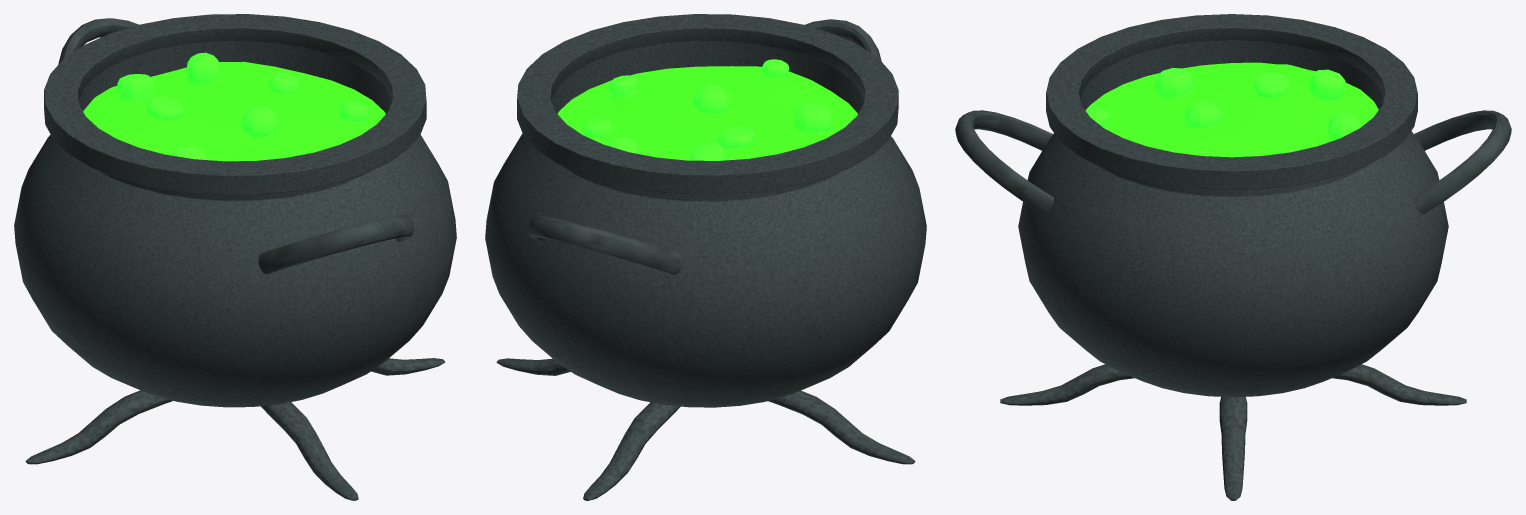
File: kazan (2).fbx
3 views of the same model, side by side, from view 1: azimuth 30°, elevation 25°; view 2: azimuth 150°, elevation 25°; view 3: azimuth 270°, elevation 25° (orthographic). The views are drawn at different scales.
Parts seen in each view (by area): view 1: Sphere, Sphere.001, Circle, Vert, Vert.001; view 2: Sphere, Sphere.001, Circle, Vert, Vert.001; view 3: Sphere, Sphere.001, Circle, Vert.001, Vert.
Part boxes in pixels (<box>): Sphere: <box>14,14,456,407</box>; Sphere.001: <box>83,52,385,161</box>; Circle: <box>58,18,413,274</box>; Vert: <box>25,358,445,464</box>; Vert.001: <box>261,402,358,500</box>; Sphere: <box>485,14,926,407</box>; Sphere.001: <box>557,59,857,160</box>; Circle: <box>528,19,881,274</box>; Vert: <box>496,358,915,464</box>; Vert.001: <box>583,402,680,500</box>; Sphere: <box>1018,14,1448,397</box>; Sphere.001: <box>1085,62,1378,157</box>; Circle: <box>955,110,1511,214</box>; Vert.001: <box>1000,364,1466,405</box>; Vert: <box>1219,397,1247,500</box>.
Bounding box in the file's own units: 291 × 214 × 347.
